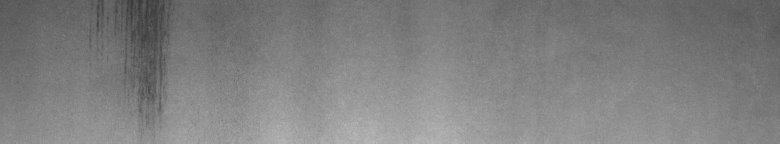ka: (88, 4, 171, 116)
